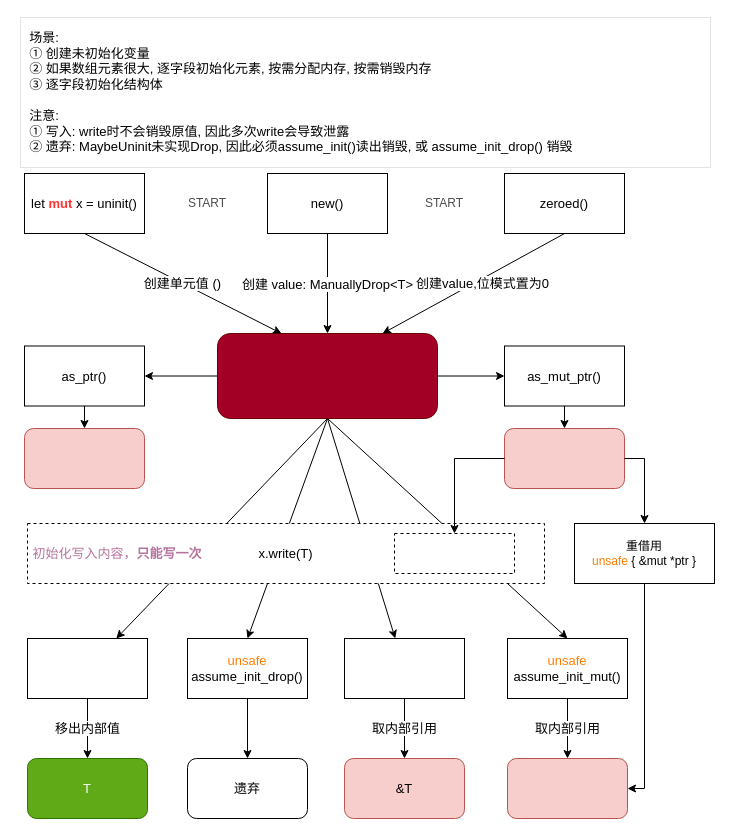
This 732x836 diagram has some shape labels left out. Each missing label, with the centre of its shape:
&mut T: (x=567, y=788)
*const T: (x=84, y=458)
*mut T: (x=564, y=458)
ptr.write(T): (x=454, y=553)
unsafe assume_init(): (x=87, y=668)
unsafe assume_init_ref(): (x=404, y=668)
透明包装: union MaybeUninit<T> { uninit: (), value: ManuallyDrop<T> }: (x=327, y=375)
